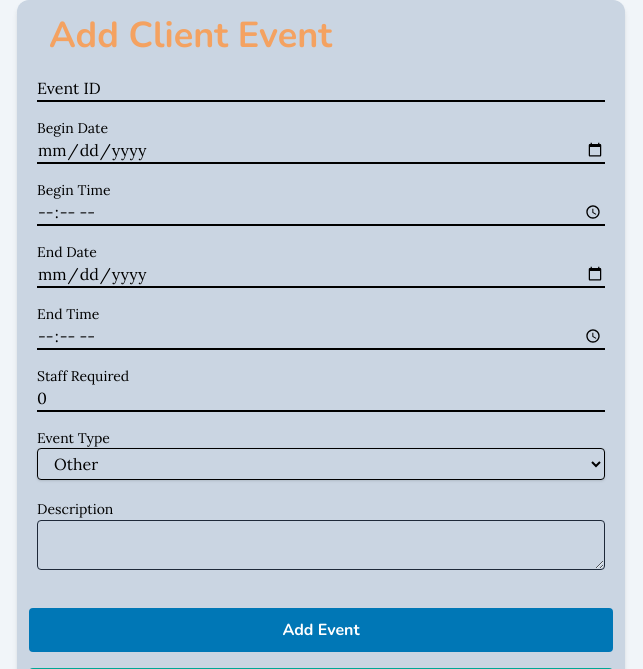
it: AddClientEventPage › shows validation errors when submitting empty form
The image size is (643, 669).
Click the button "Add Event" at (321, 630), box [29, 608, 613, 652]
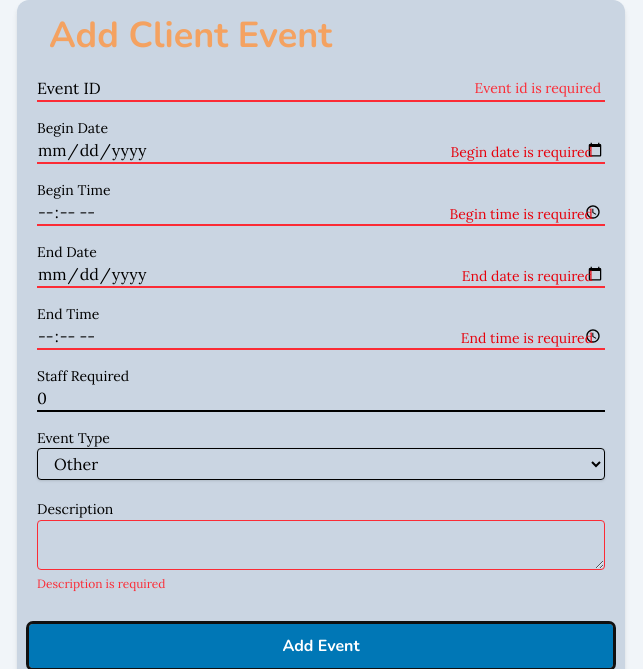
Expected: the text "Event id is required" is shown, [475, 78, 601, 98]
Expected: the text "Begin date is required" is shown, [450, 142, 593, 162]
